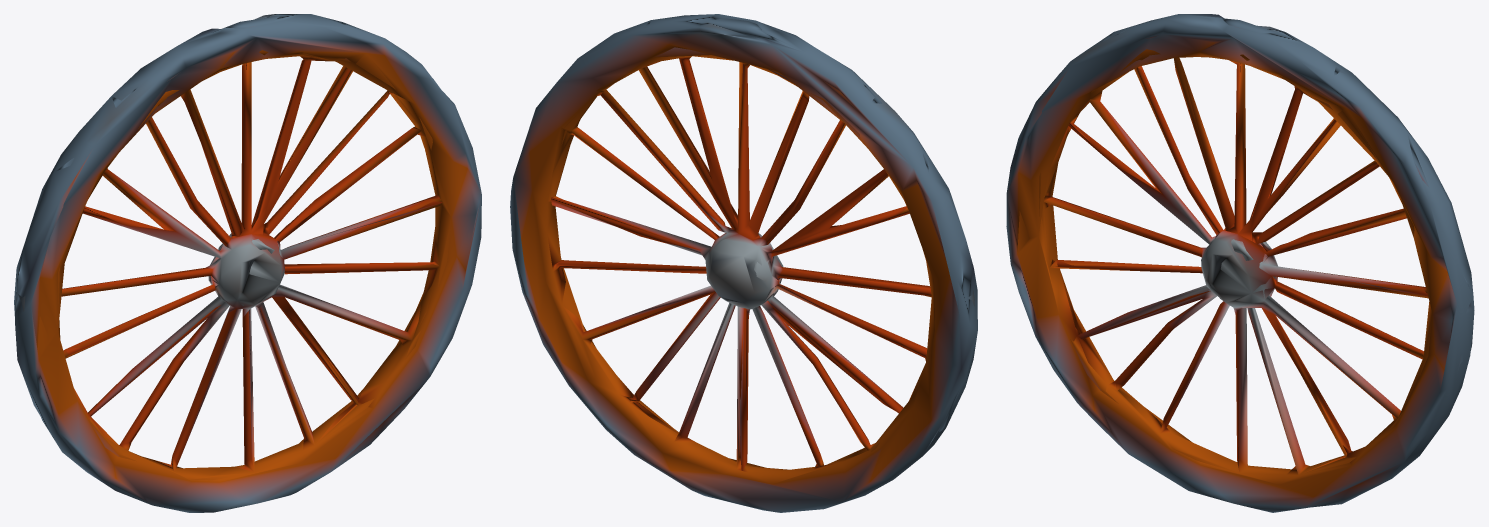
Rendered from gen3d-wagon-wheel-lod1.glb.
3 views of the same model, side by side, from view 1: azimuth 30°, elevation 25°; view 2: azimuth 150°, elevation 25°; view 3: azimuth 330°, elevation 25° (orthographic).
Visible parts, largest first — view 1: part_0; view 2: part_0; view 3: part_0.
Boxes of the visible parts, x1,y1,x2,y2 form: part_0: (14, 14, 481, 512); part_0: (510, 14, 977, 512); part_0: (1006, 14, 1474, 512).
Bounding box in the file's own units: 0.9926 × 0.9932 × 0.0965.
